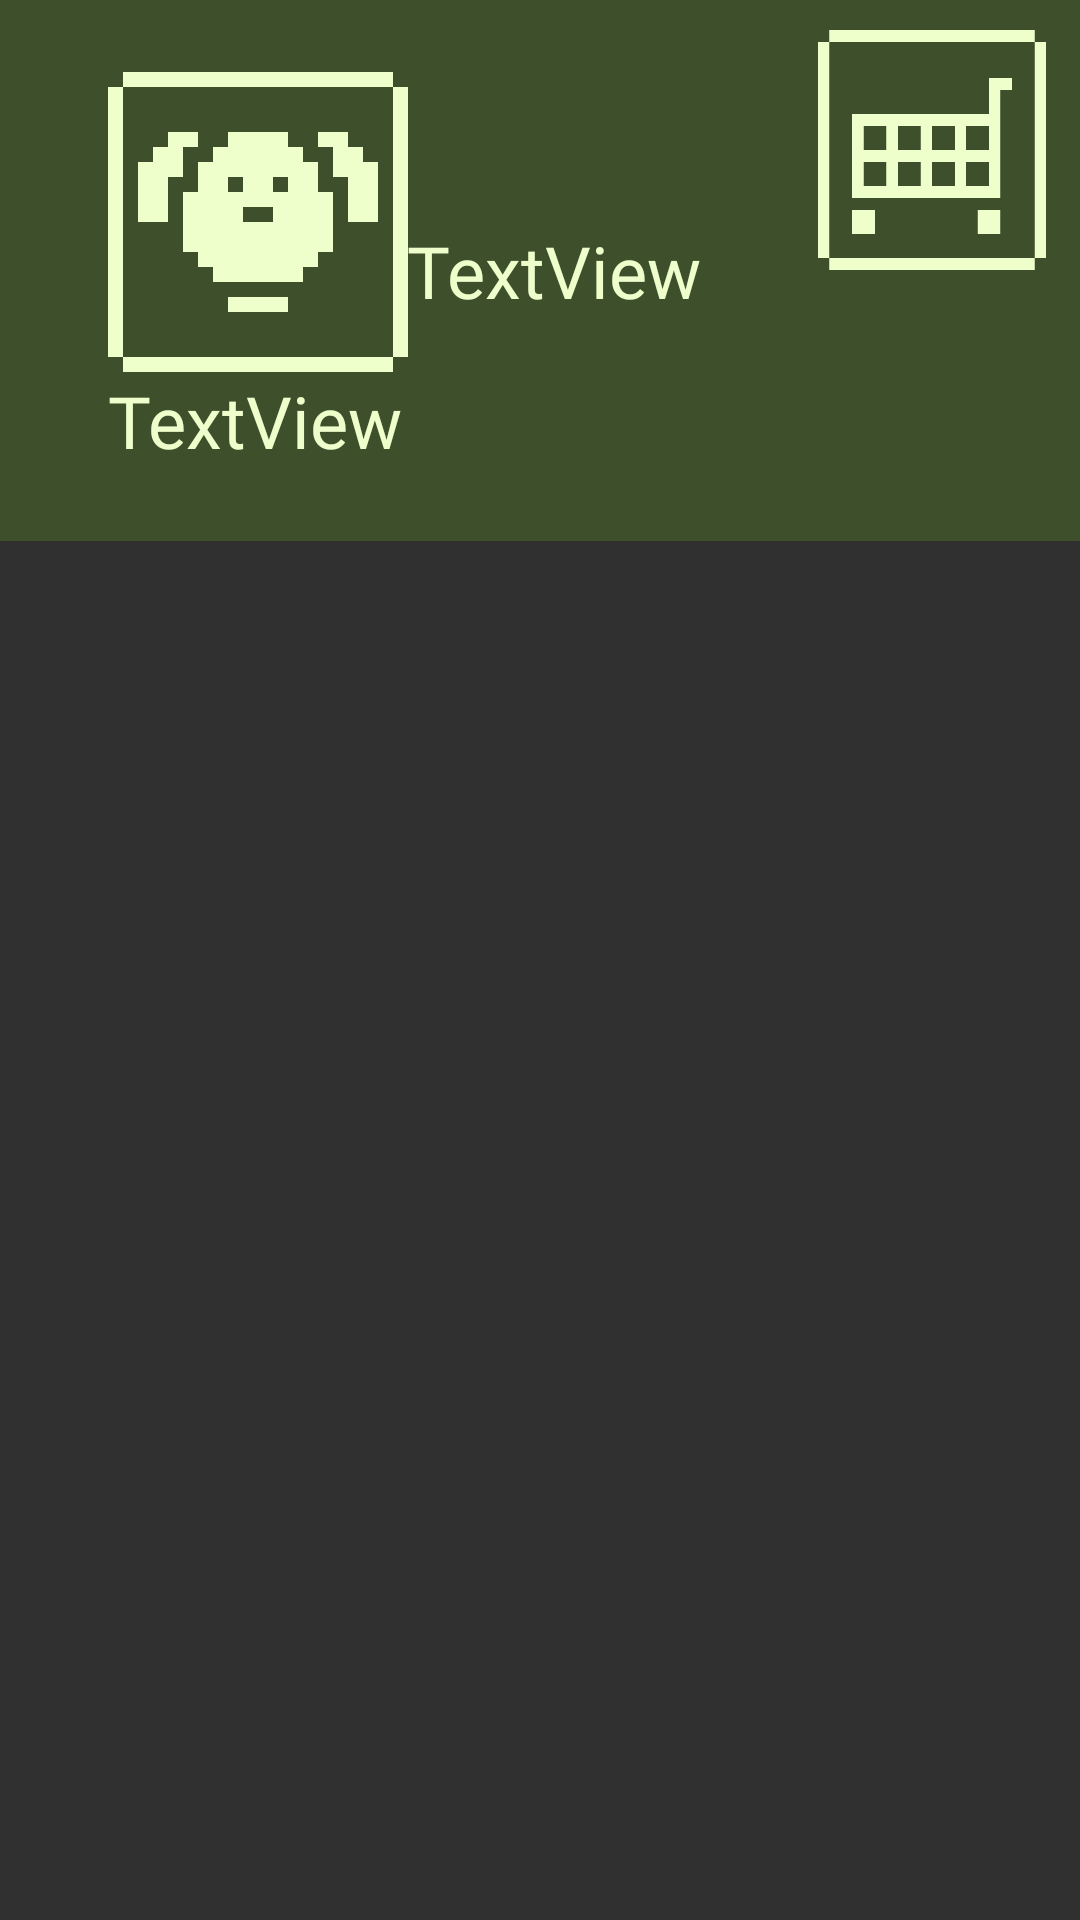

Where icons sit on this 1080*1920 app screen, as (x1, y1, x2, y2):
buy: (818, 30, 1046, 270)
pet dog: (138, 132, 378, 312)
